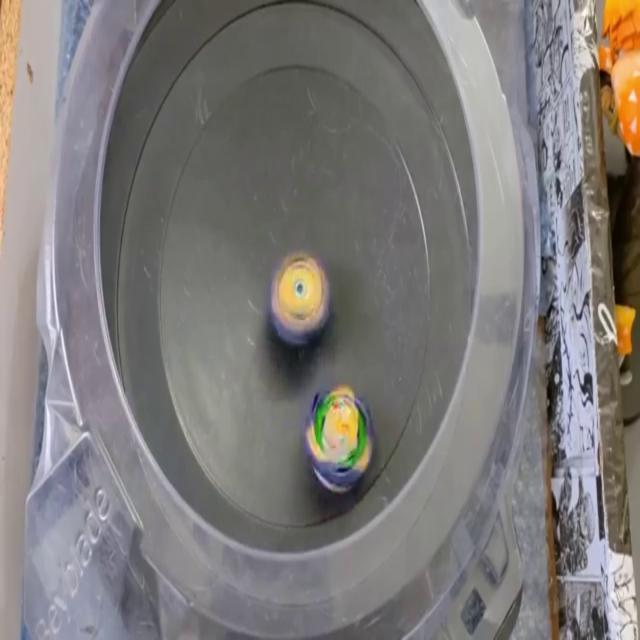Beyblade: (306, 383, 376, 495), (268, 250, 330, 348)
